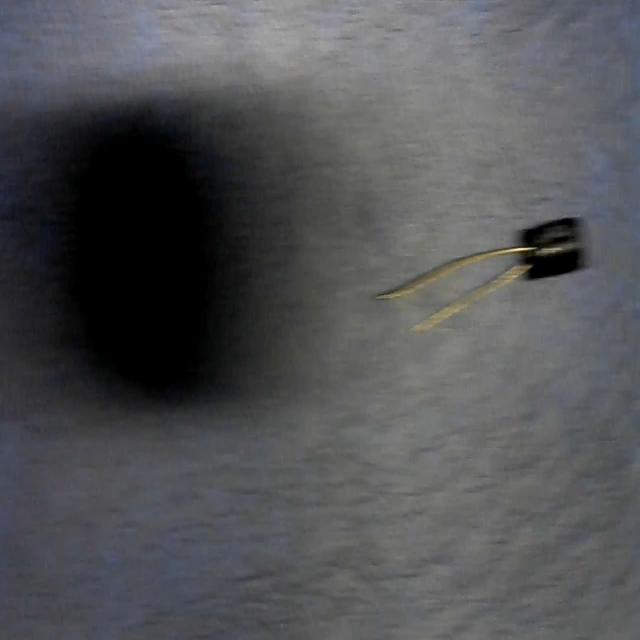capacitor: (376, 214, 591, 338)
